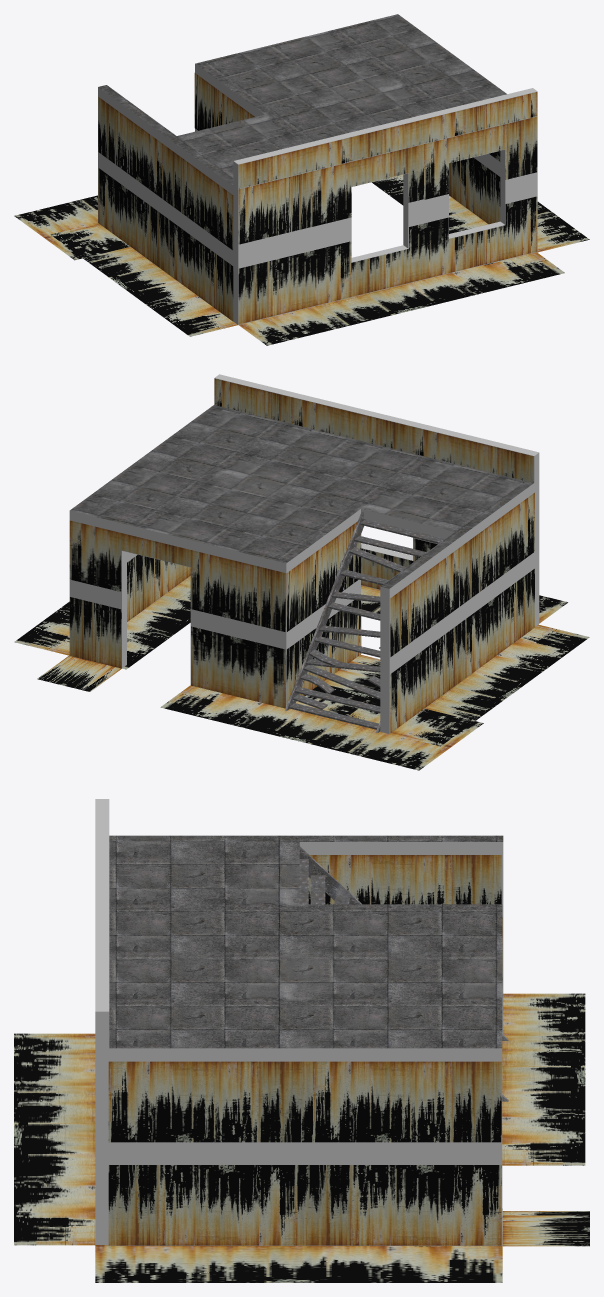
Rendered from Barracks.FBX.
The picture shows the model from 3 angles, top to bottom: view 1: azimuth 30°, elevation 25°; view 2: azimuth 150°, elevation 25°; view 3: azimuth 270°, elevation 25°; orthographic projection. The views are drawn at different scales.
Visible parts, largest first — view 1: Barracks; view 2: Barracks; view 3: Barracks.
Part boxes in pixels (box(x1,y1,x2,y2)): Barracks: box(14, 14, 589, 345); Barracks: box(14, 374, 589, 770); Barracks: box(14, 799, 589, 1282).
Bounding box in the file's own units: 1011 × 383 × 851.
